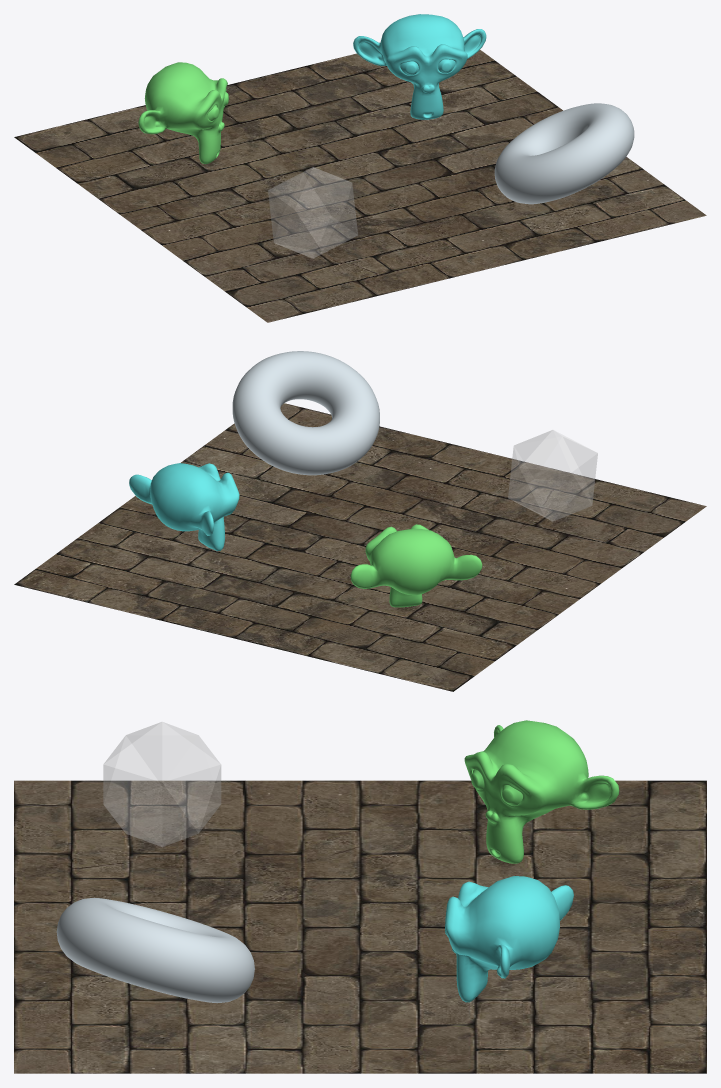
3 renders of one model, top to bottom at view 1: azimuth 30°, elevation 25°; view 2: azimuth 150°, elevation 25°; view 3: azimuth 270°, elevation 25°, orthographic. The views are drawn at different scales.
Visible parts, largest first — view 1: Plane, Torus, Susanne.001, Icosphere, Susanne.000; view 2: Plane, Torus, Susanne.000, Icosphere, Susanne.001; view 3: Plane, Torus, Susanne.000, Icosphere, Susanne.001.
Boxes of the visible parts, x1=… form: Plane: x1=14, y1=50, x2=706, y2=322; Torus: x1=494, y1=103, x2=634, y2=204; Susanne.001: x1=353, y1=14, x2=486, y2=119; Icosphere: x1=268, y1=167, x2=357, y2=258; Susanne.000: x1=138, y1=62, x2=228, y2=163; Plane: x1=14, y1=403, x2=706, y2=691; Torus: x1=232, y1=351, x2=379, y2=475; Susanne.000: x1=350, y1=524, x2=482, y2=607; Icosphere: x1=508, y1=430, x2=597, y2=521; Susanne.001: x1=129, y1=463, x2=239, y2=551; Plane: x1=14, y1=780, x2=706, y2=1073; Torus: x1=56, y1=897, x2=254, y2=1003; Susanne.000: x1=464, y1=720, x2=619, y2=863; Icosphere: x1=103, y1=722, x2=220, y2=846; Susanne.001: x1=445, y1=876, x2=573, y2=1002.
Bounding box in the file's own units: 10 × 2 × 10.
5 materials, 1 textured.
